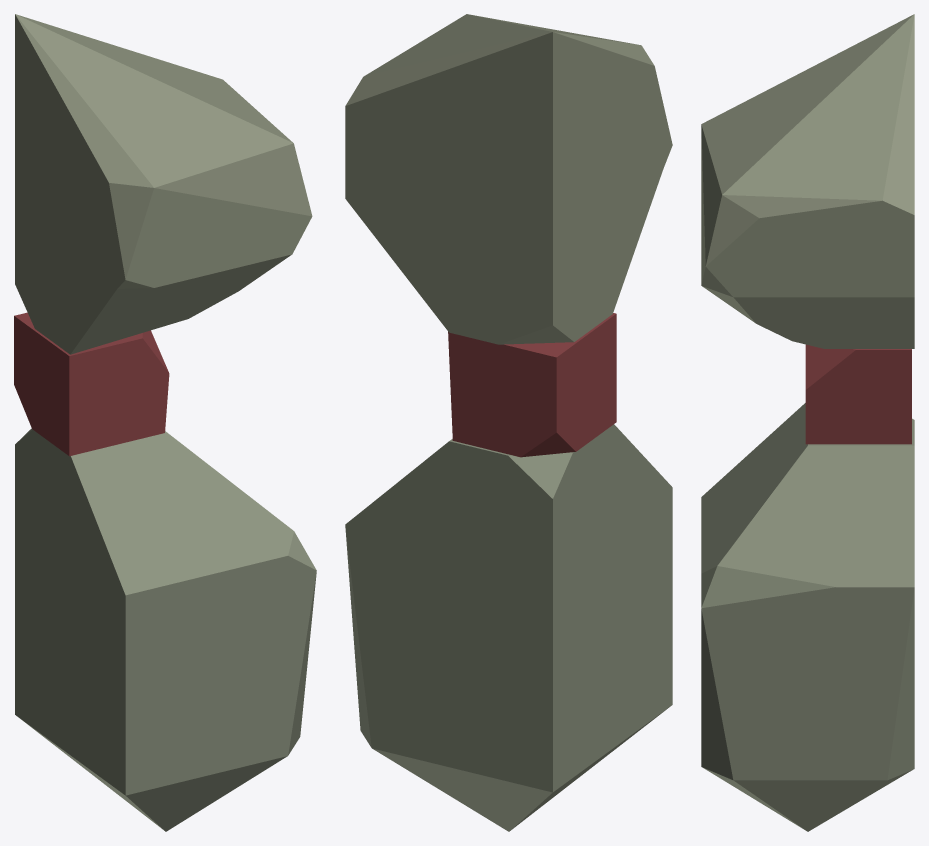
File: railing_corner_conv_2.fbx
3 renders of one model, left to right at view 1: azimuth 30°, elevation 25°; view 2: azimuth 150°, elevation 25°; view 3: azimuth 270°, elevation 25°, orthographic. The views are drawn at different scales.
Parts seen in each view (by area): view 1: railing_corner_conv_2; view 2: railing_corner_conv_2; view 3: railing_corner_conv_2.
Part boxes in pixels (bbox=[...]): railing_corner_conv_2: bbox=[14, 14, 316, 831]; railing_corner_conv_2: bbox=[345, 14, 672, 831]; railing_corner_conv_2: bbox=[701, 14, 914, 831].
Size of the model in its own units: 50.58 by 200 by 50.
